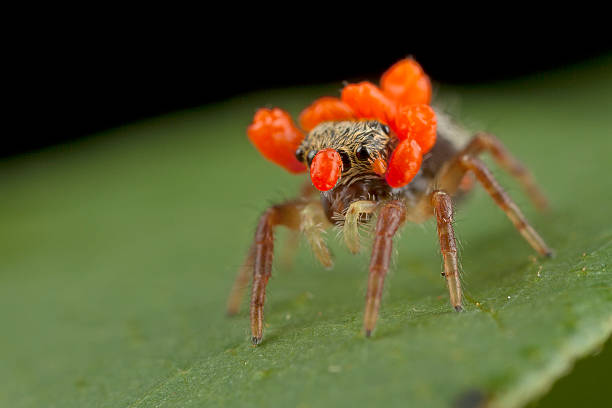Mites: (194, 24, 590, 361)
